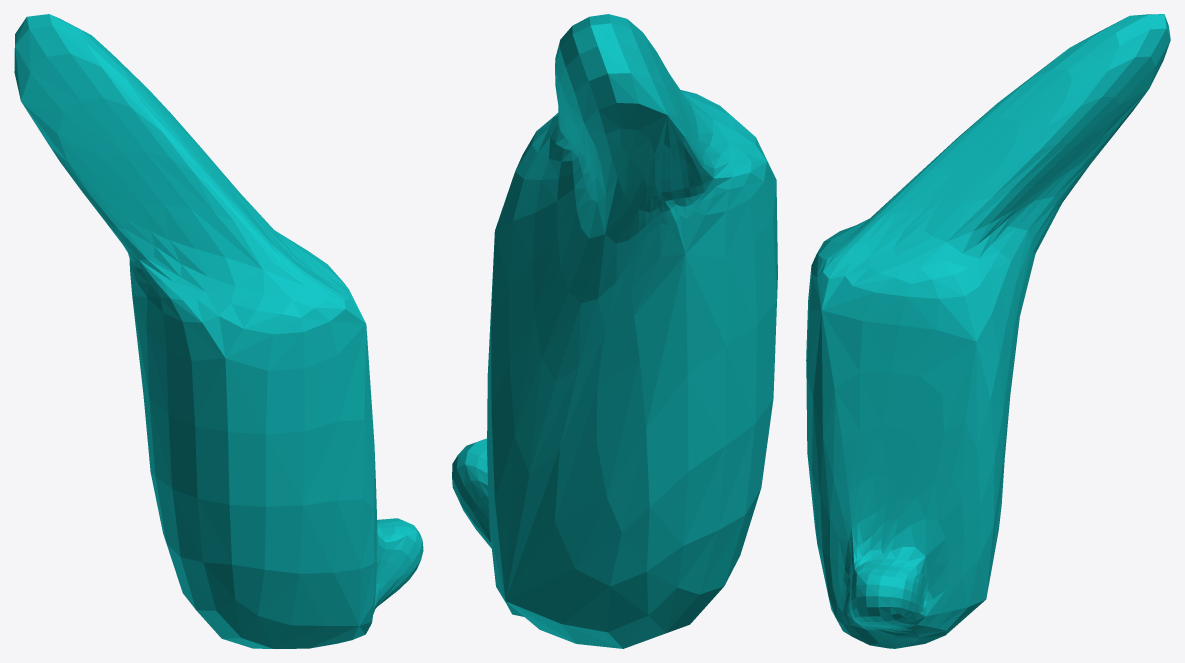
The picture shows the model from 3 angles, left to right: view 1: azimuth 30°, elevation 25°; view 2: azimuth 150°, elevation 25°; view 3: azimuth 270°, elevation 25°; orthographic projection. The views are drawn at different scales.
Visible parts, largest first — view 1: 847_Cube.3419; view 2: 847_Cube.3419; view 3: 847_Cube.3419.
Boxes of the visible parts, x1=… form: 847_Cube.3419: x1=14, y1=14, x2=423, y2=648; 847_Cube.3419: x1=452, y1=14, x2=777, y2=648; 847_Cube.3419: x1=806, y1=14, x2=1170, y2=648.
Bounding box in the file's own units: 8.88 × 17.41 × 10.26.
